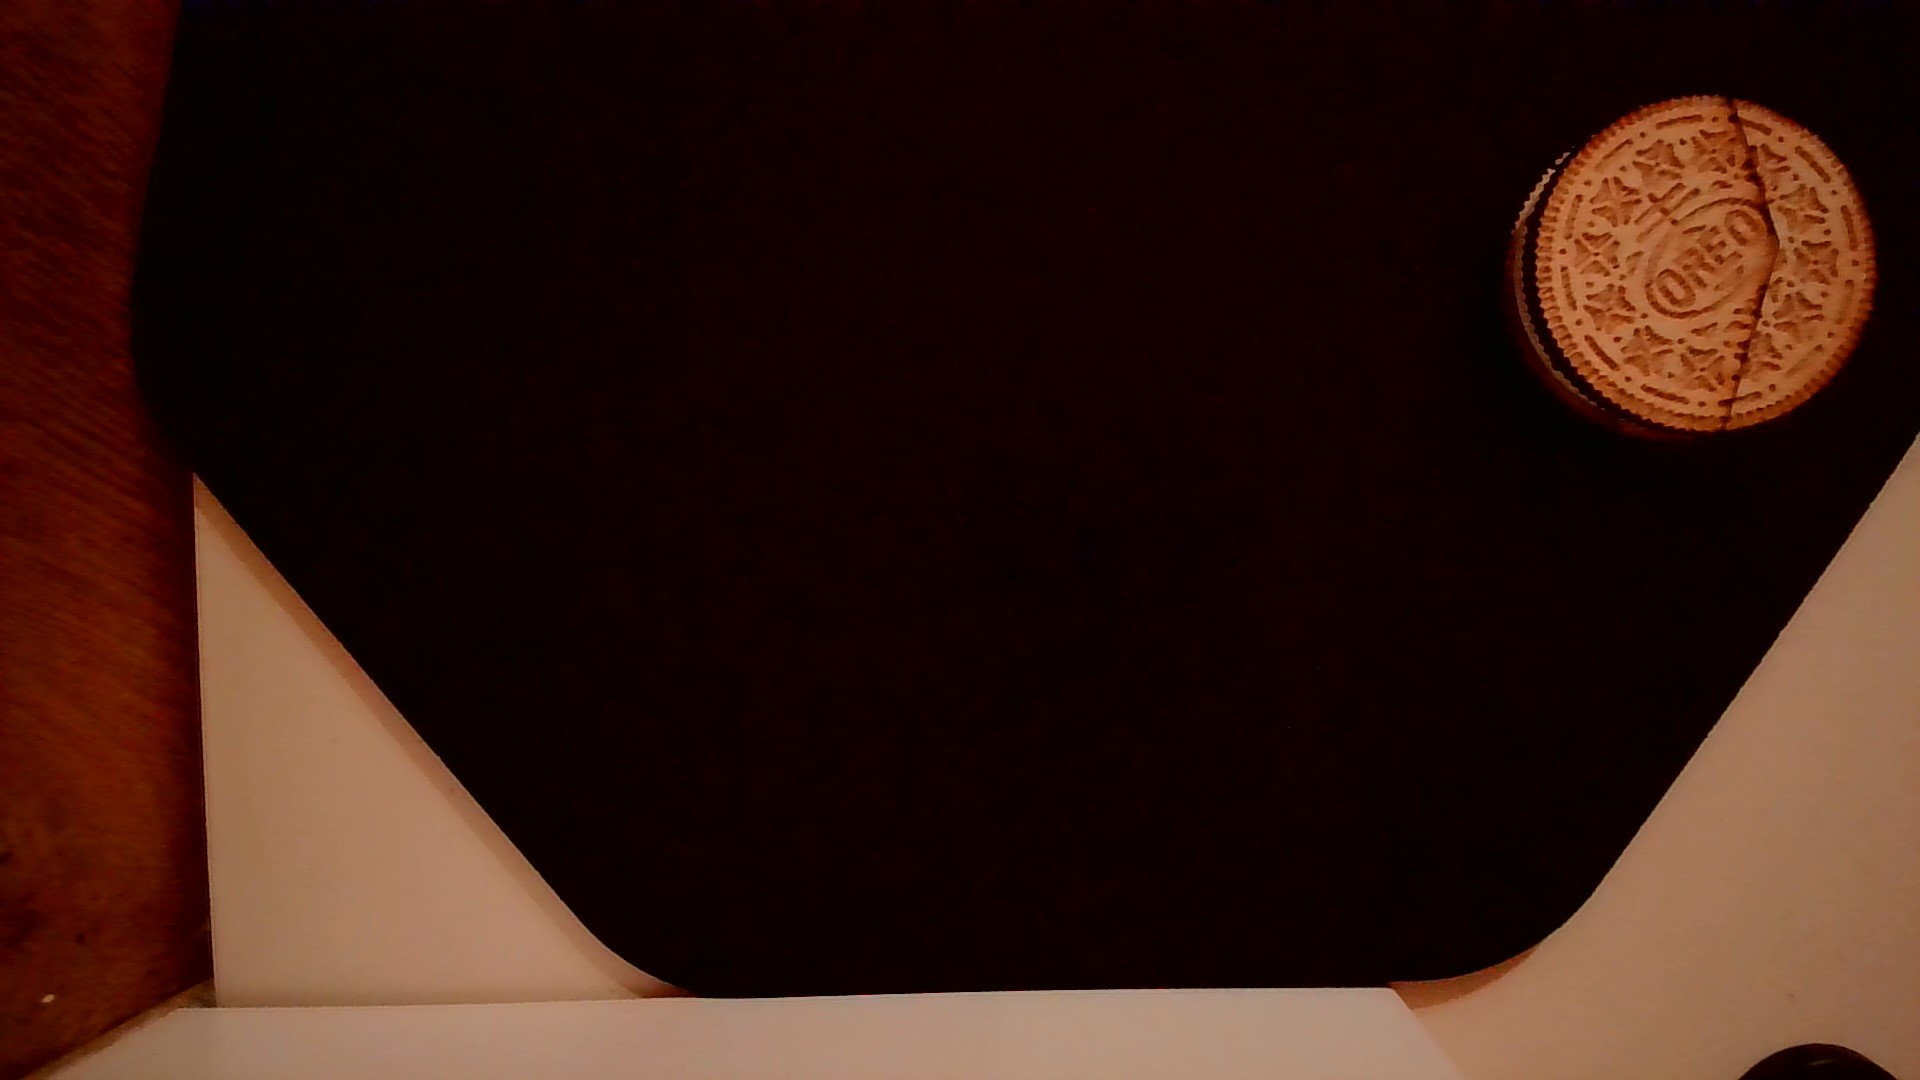Fissure: (1713, 86, 1789, 440)
Oréo: (1490, 82, 1884, 450)
